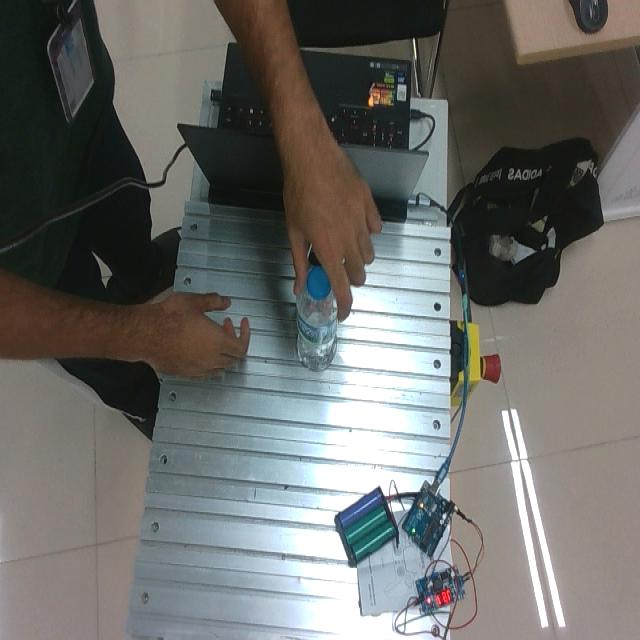lavie: (296, 263, 340, 372)
